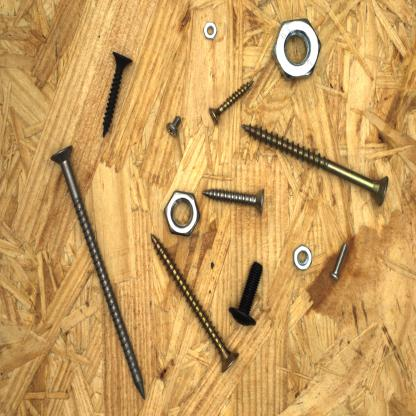screw: (49, 142, 148, 404), (148, 228, 242, 375), (240, 120, 394, 209), (99, 47, 135, 140), (227, 257, 267, 329), (198, 182, 270, 218), (207, 76, 256, 127), (328, 240, 349, 286), (162, 113, 185, 140)
